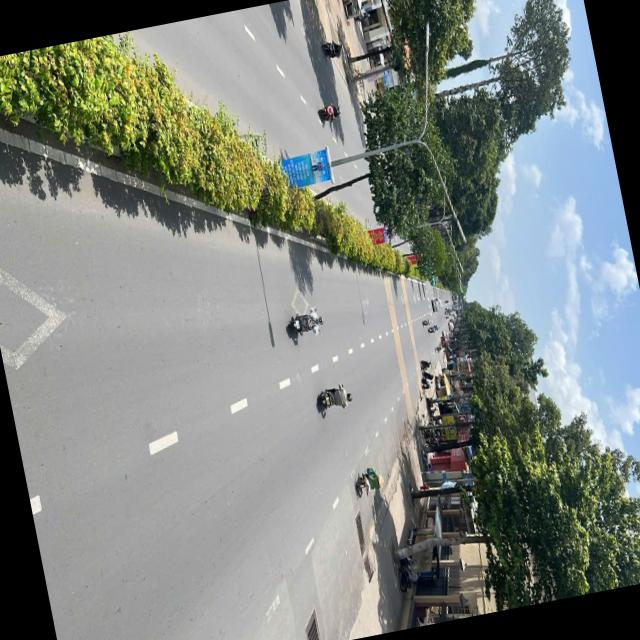car: (428, 296, 442, 318)
motobyte: (280, 302, 329, 344), (313, 378, 356, 416), (317, 31, 348, 68), (314, 94, 345, 130), (418, 316, 435, 334)
